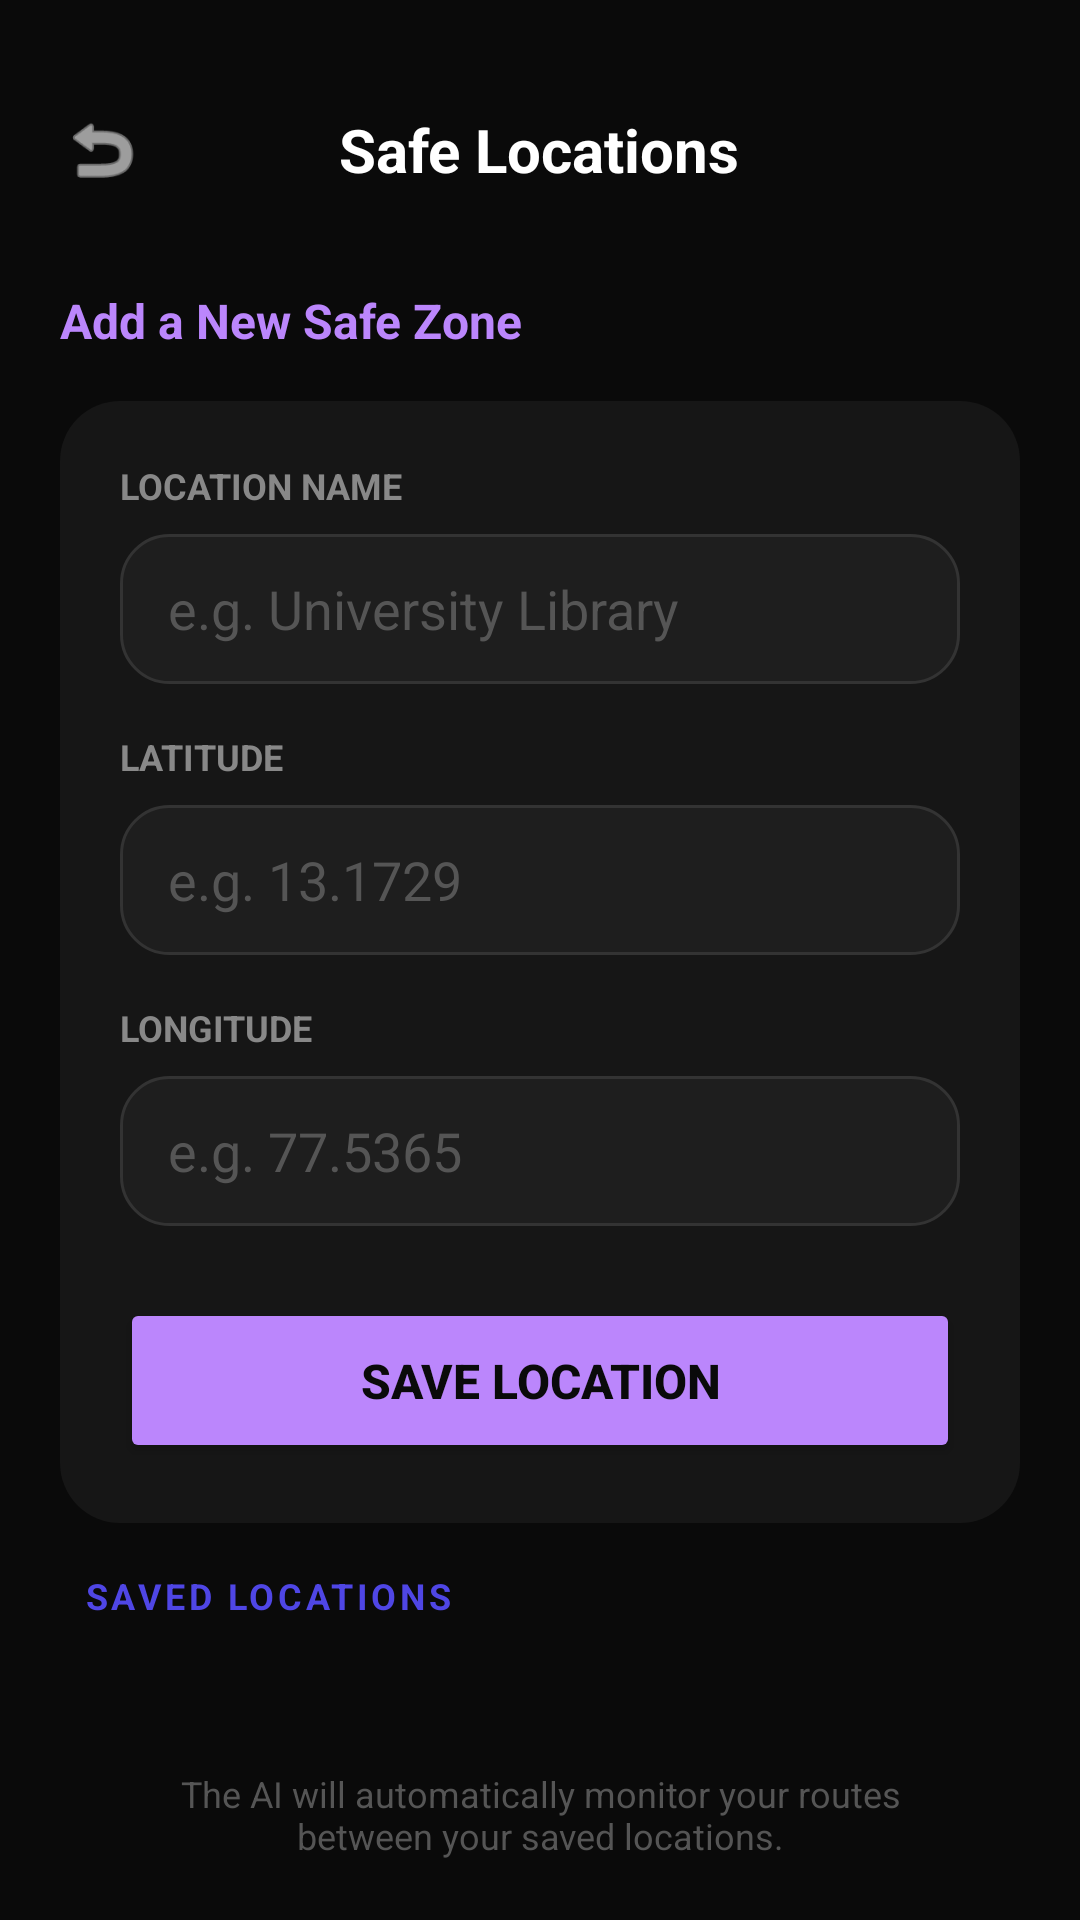

Named icons in this screenshot (1080px×1920px) and their centers, [x,y]:
revert: [103,150]
